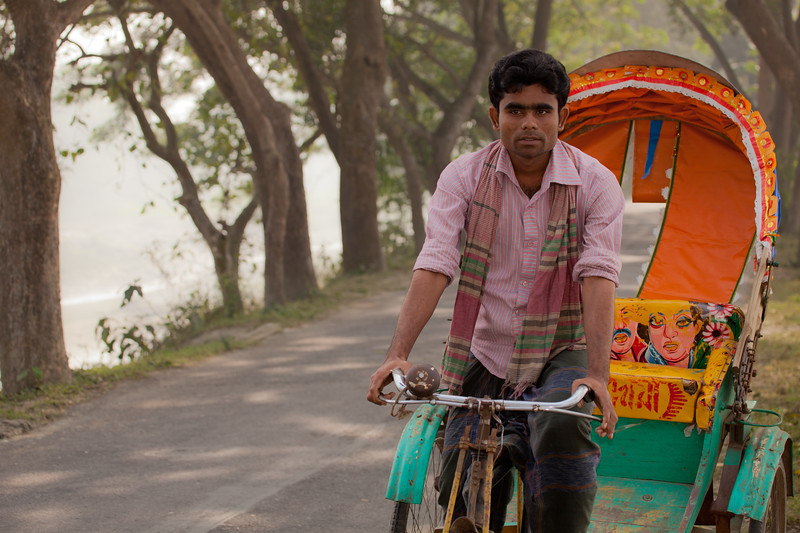Rickshaw: (402, 29, 785, 530)
